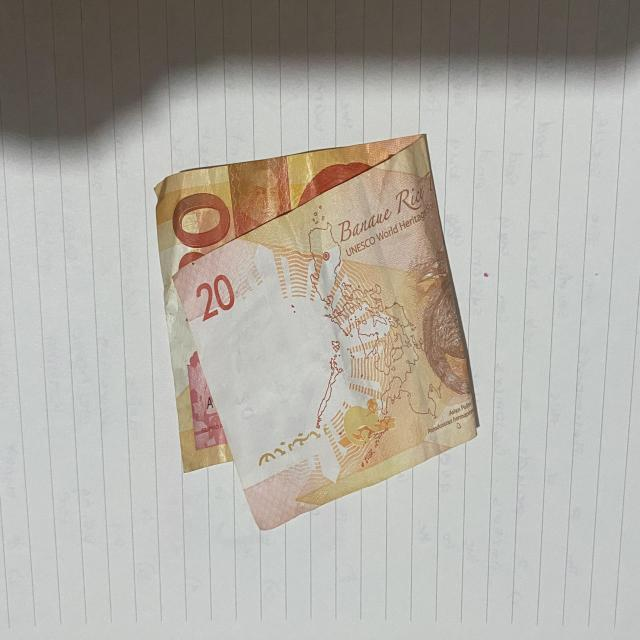concealed_value: (226, 161, 295, 236)
see_through_mark: (254, 419, 330, 470)
value: (171, 194, 223, 255)
value_watermark: (224, 383, 266, 442)
